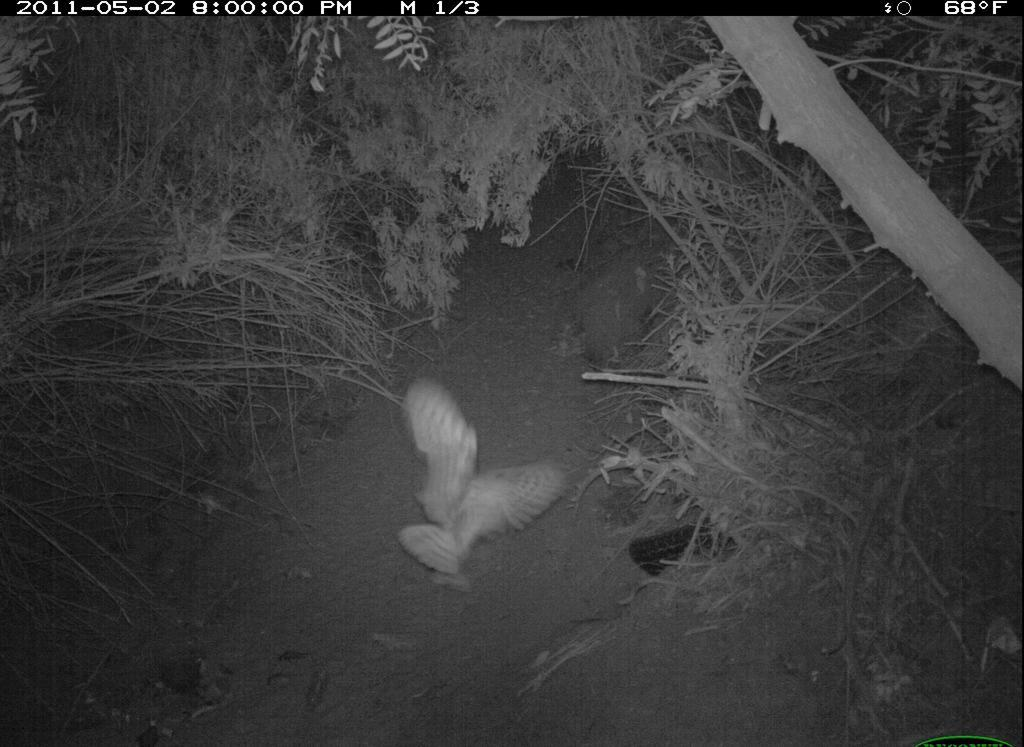bird: (383, 367, 575, 598)
